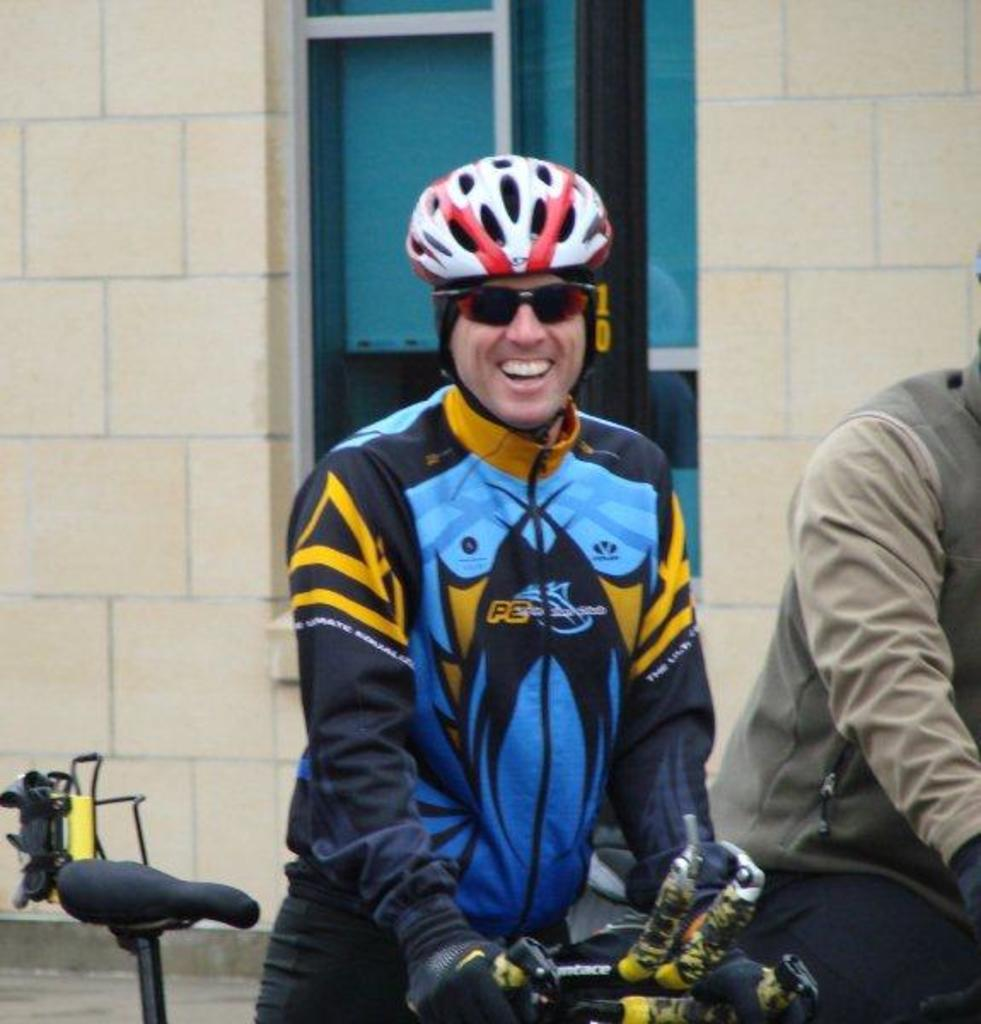Bike: (59, 823, 724, 1024)
